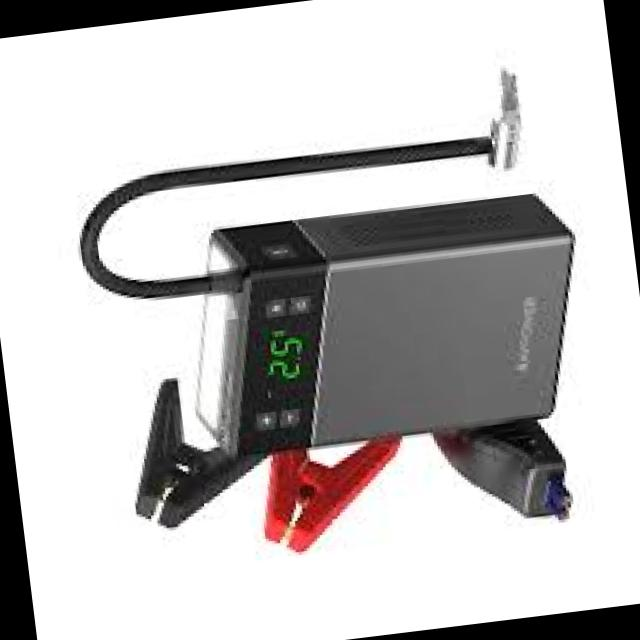portable-charger: (170, 177, 600, 468)
